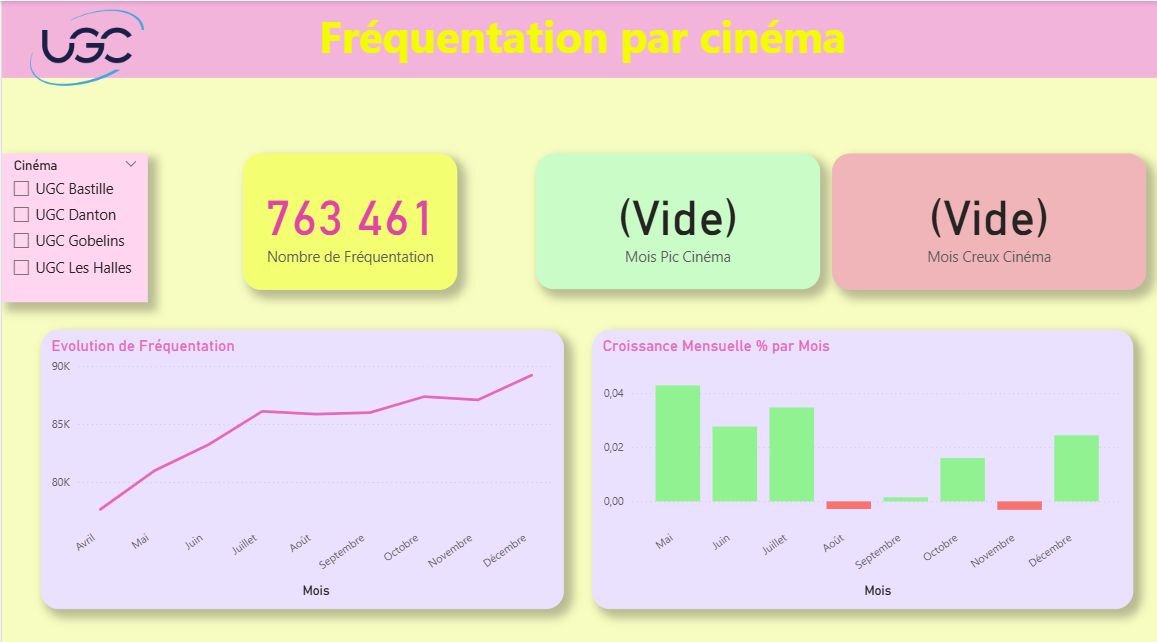

Layout of this report page (visuals, bound fields, positions):
{"tool":"powerbi","page":{"name":"Vision par cinéma","canvas":[1280,720],"ordinal":1},"visuals":[{"type":"slicer","fields":{"Values":["Feuil1 (2).Cinéma"]},"box":[0,168.2,161.1,163.9],"z":0},{"type":"columnChart","fields":{"Y":["Feuil1.Croissance Mensuelle %"],"Category":["TableMois.Mois"]},"box":[650,362.2,597,307.8],"z":1000},{"type":"card","fields":{"Values":["Feuil1 (2).Mois Pic Cinéma"]},"box":[588.7,168.2,313.6,149.7],"z":2000},{"type":"lineChart","title":"Evolution de Fréquentation ","fields":{"Category":["TableMois.Mois"],"Y":["Sum(Feuil1 (2).Fréquentation)"]},"box":[43,362.2,577,307.8],"z":3000},{"type":"card","fields":{"Values":["Sum(Feuil1 (2).Fréquentation)"]},"box":[266.3,167.5,236.2,150.3],"z":4000},{"type":"card","fields":{"Values":["Feuil1 (2).Mois Creux Cinéma"]},"box":[914.9,167.5,346.5,150.3],"z":5000},{"type":"textbox","box":[0,0,1280,84.5],"z":6000},{"type":"image","box":[25.7,0,135.4,102.6],"z":7000}]}

Visuals, with their boxes in screenshot pixels (x1, y1, x2, y2), scaled from the page's 1280x720 canvas onto the 1157x642 screenshot:
slicer - Feuil1 (2).Cinéma: 0 150 146 296
columnChart - Feuil1.Croissance Mensuelle % x TableMois.Mois: 588 323 1127 597
card - Feuil1 (2).Mois Pic Cinéma: 532 150 816 283
"Evolution de Fréquentation " lineChart: 39 323 560 597
card - Sum(Feuil1 (2).Fréquentation): 241 149 454 283
card - Feuil1 (2).Mois Creux Cinéma: 827 149 1140 283
textbox: 0 0 1156 75
image: 23 0 146 91
